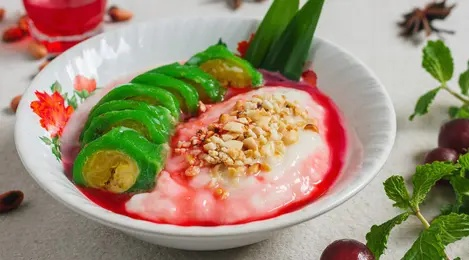es_pisang_ijo: (63, 48, 348, 227)
